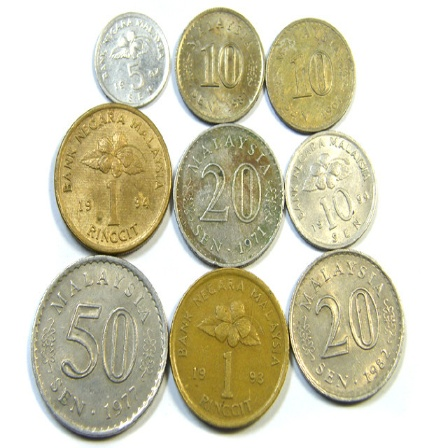10: (284, 127, 379, 252), (265, 16, 357, 137), (174, 7, 267, 125)
1r: (169, 265, 293, 432), (52, 101, 174, 257)
20: (289, 249, 407, 405), (173, 122, 290, 270)
5: (91, 9, 172, 110)
50: (28, 253, 172, 441)
